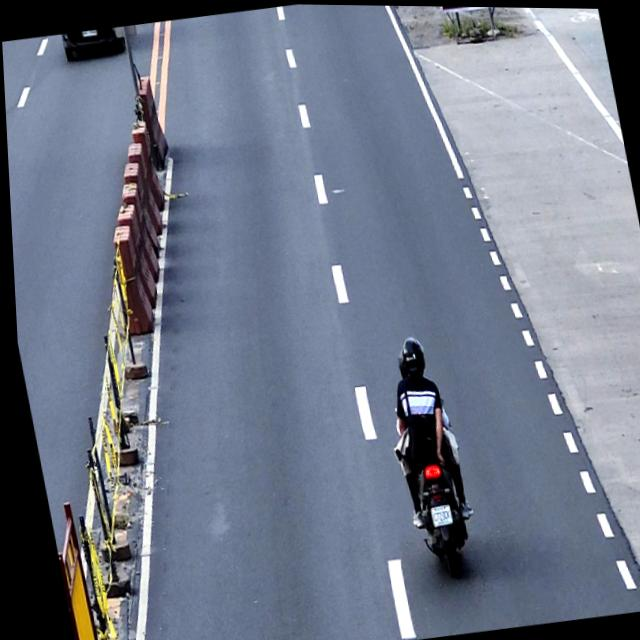Car: (60, 26, 126, 62)
License-Plate: (423, 500, 449, 527), (81, 29, 97, 38)
Motorcycle: (380, 397, 479, 582)
